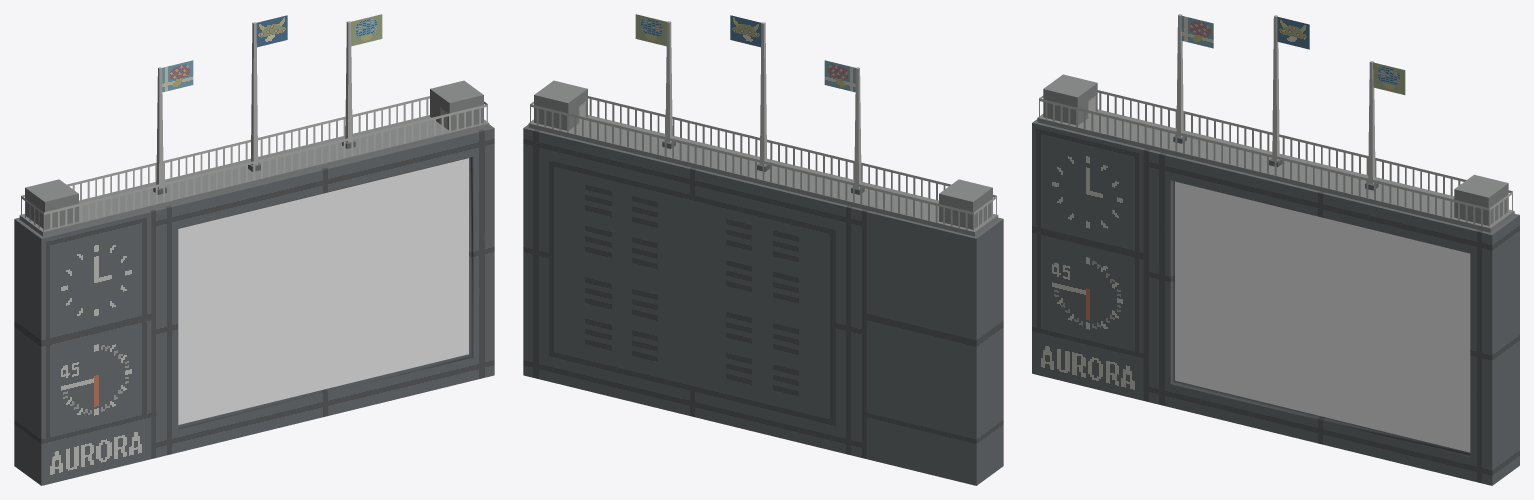
Rendered from 0290_Stadium_Screen.glb.
3 renders of one model, left to right at view 1: azimuth 30°, elevation 25°; view 2: azimuth 150°, elevation 25°; view 3: azimuth 330°, elevation 25°, orthographic.
Parts seen in each view (by area): view 1: part_0; view 2: part_0; view 3: part_0.
Part boxes in pixels (x1,y1,x2,y2): part_0: [14, 14, 494, 485]; part_0: [523, 14, 1003, 485]; part_0: [1032, 14, 1519, 485].
Bounding box in the file's own units: 48 × 40.25 × 5.
Materials: 2 (1 with a texture image).
